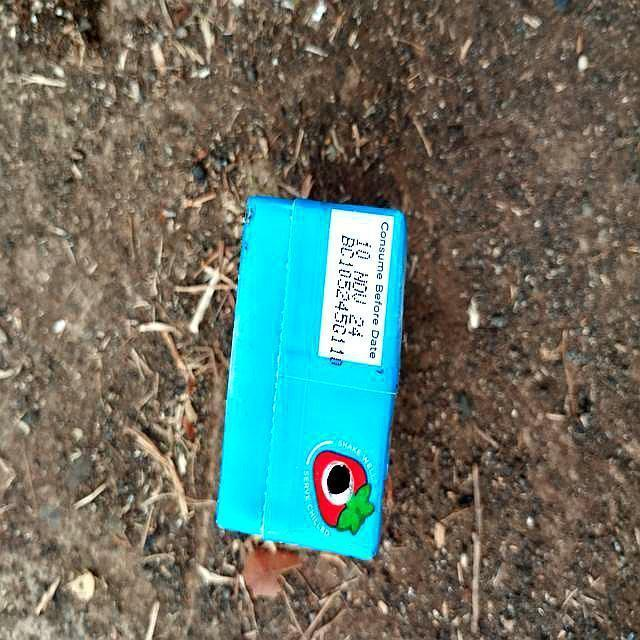Biodegradable: (214, 192, 410, 567)
